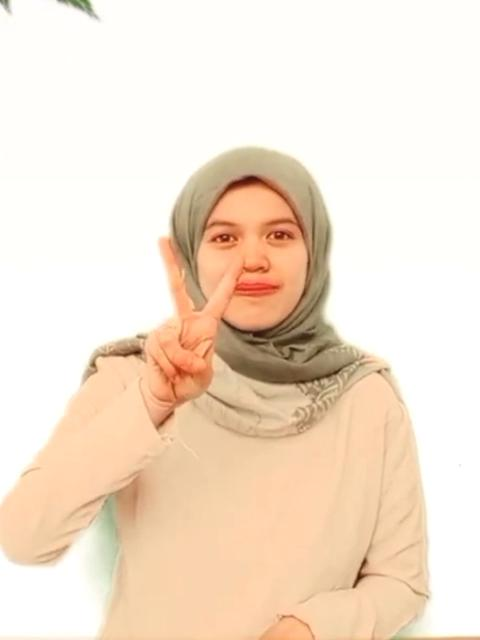V: (146, 228, 241, 404)
